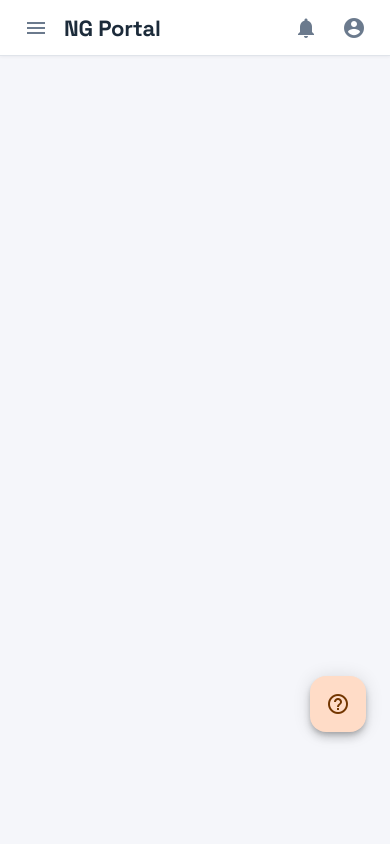
Scenario: ShellComponent › ouvre et referme le panneau au clic du hamburger (aria-expanded + voile suivent)
Click the button with class "app-nav-toggle" at (36, 28), box [16,8,56,48]
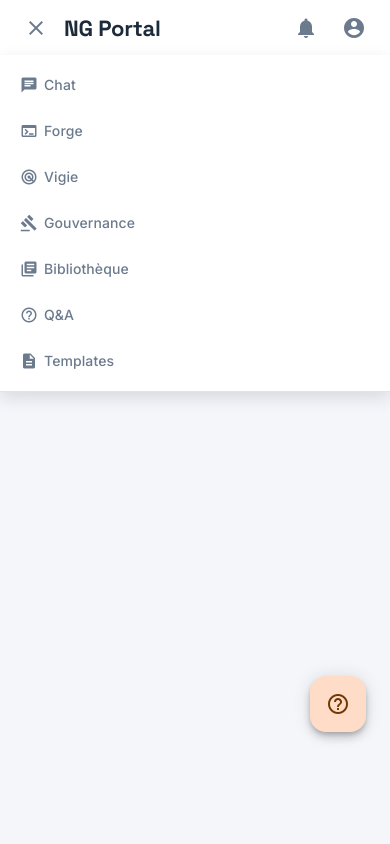
Expected: the button with class "app-nav-toggle" is expanded
Expected: the element with class "app-nav-backdrop" is shown
Click the button with class "app-nav-toggle" at (36, 28), box [16,8,56,48]
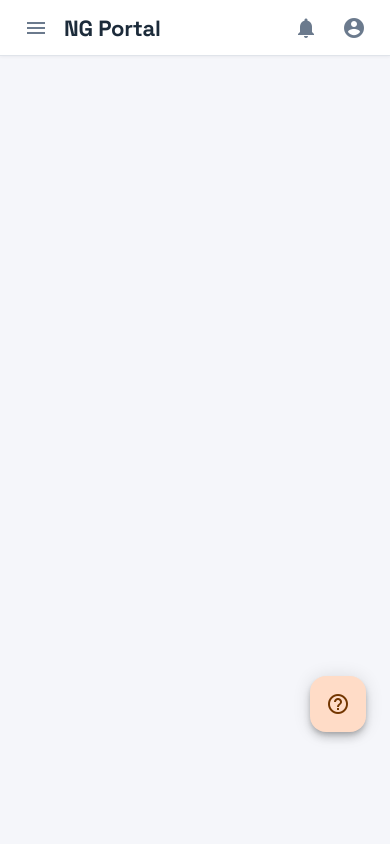
Expected: the button with class "app-nav-toggle" is collapsed, [16,8,56,48]
Expected: the element with class "app-nav-backdrop" is gone
